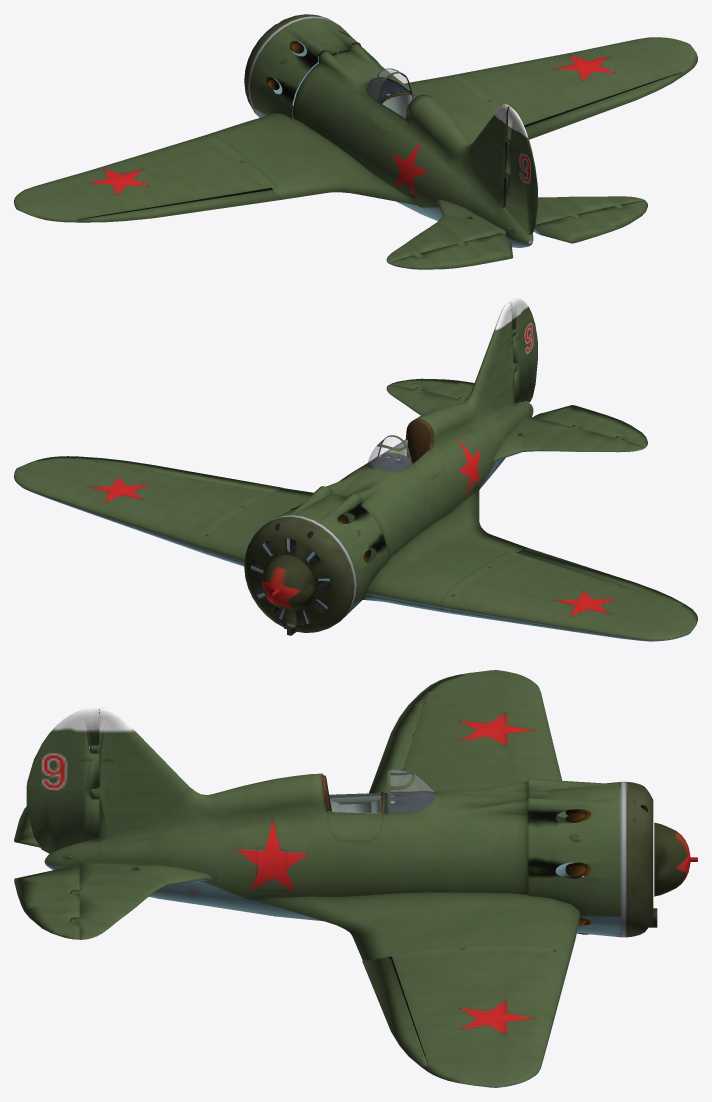
3 renders of one model, top to bottom at view 1: azimuth 30°, elevation 25°; view 2: azimuth 150°, elevation 25°; view 3: azimuth 270°, elevation 25°, orthographic. The views are drawn at different scales.
Visible parts, largest first — view 1: fuselage_fuselage.mesh; view 2: fuselage_fuselage.mesh; view 3: fuselage_fuselage.mesh.
Part boxes in pixels (bbox=[...]): fuselage_fuselage.mesh: bbox=[14, 14, 697, 269]; fuselage_fuselage.mesh: bbox=[14, 298, 697, 641]; fuselage_fuselage.mesh: bbox=[14, 670, 697, 1087].
Bounding box in the file's own units: 26.96 × 6.71 × 18.73.
3 materials, 2 textured.
